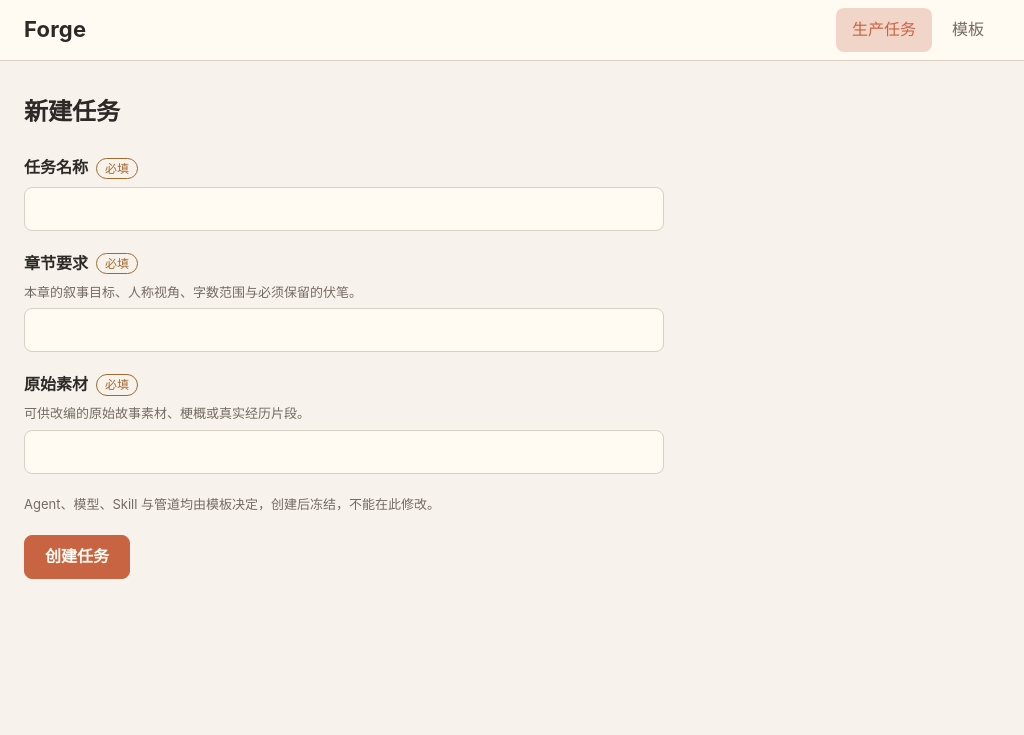
Test: NewTaskPage › keeps entered values and focuses the error summary when creation fails
This screenshot has width=1024, height=735.
In the field labelled "任务名称": [344, 209] box 24,187 -> 664,231, type "第一章产品形态验收"
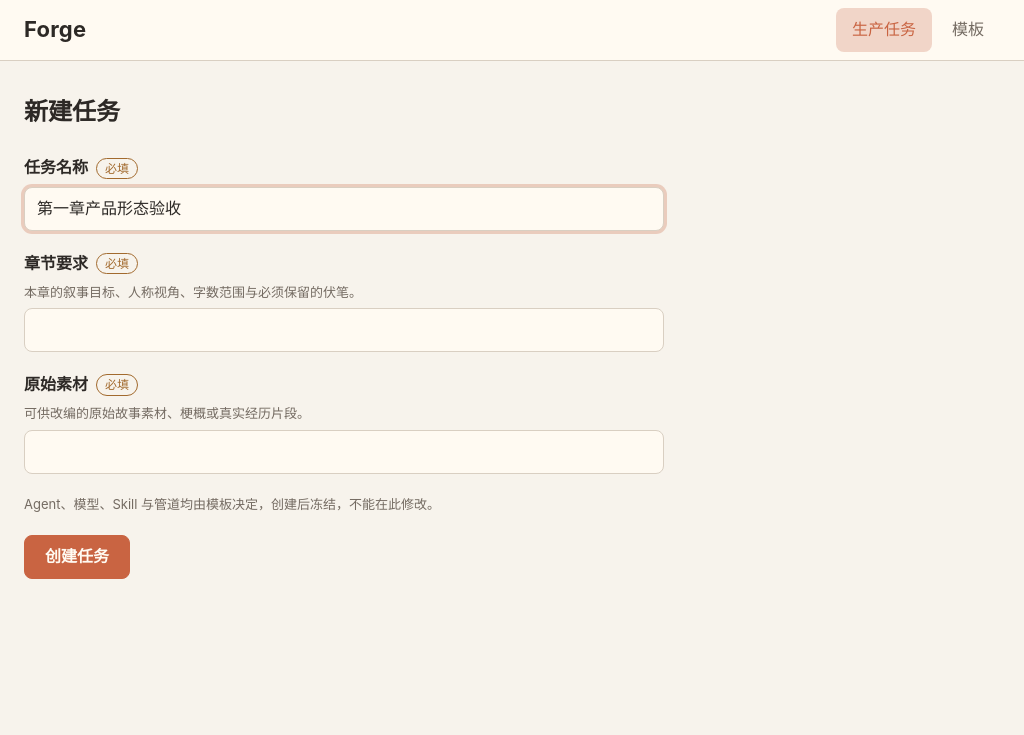
In the field labelled "章节要求": [344, 330] box 24,308 -> 664,352, type "以第一人称推进冲突"
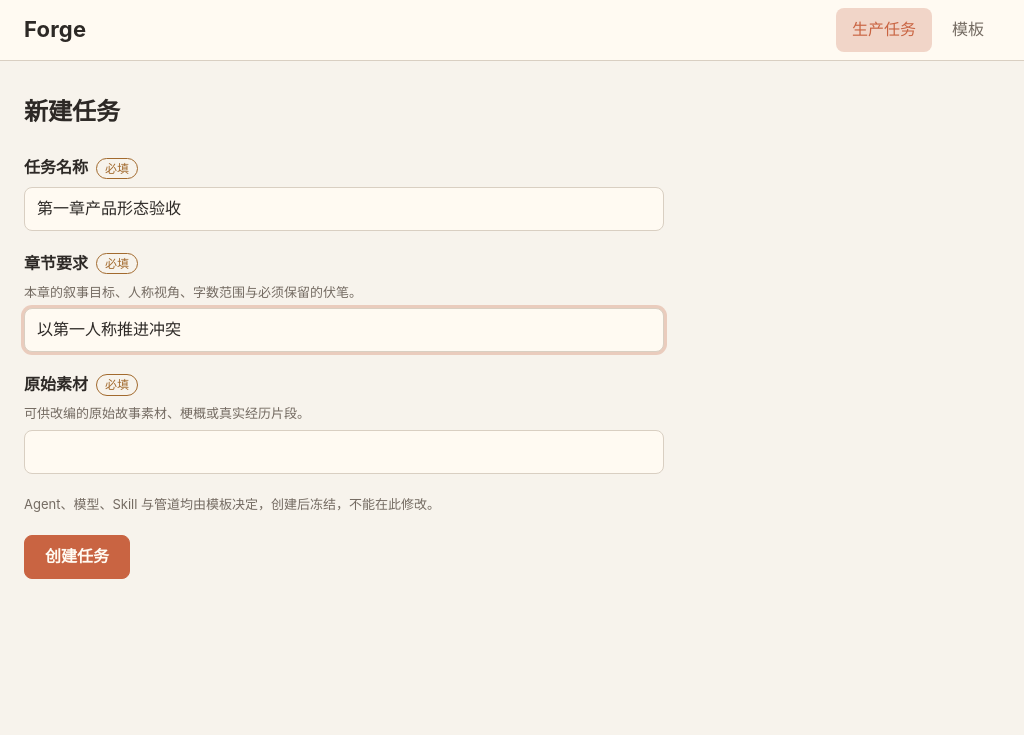
In the field labelled "原始素材": [344, 452] box 24,430 -> 664,474, type "家族聚会中出现一封旧信"
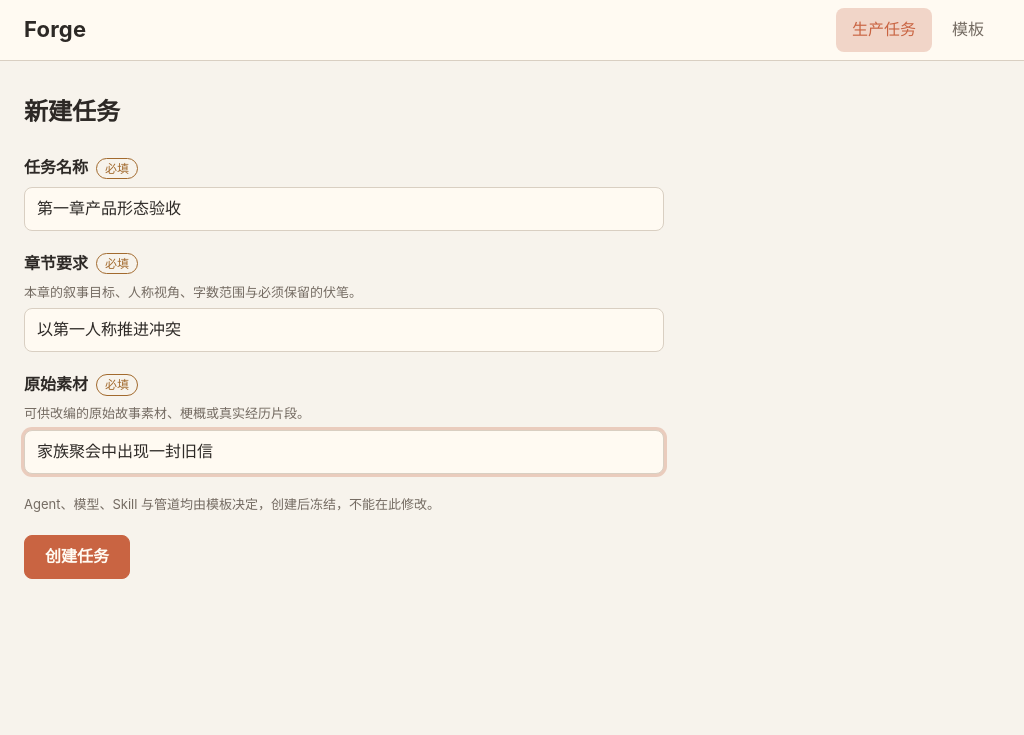
Click the button "创建任务": [77, 556] box 24,534 -> 130,578
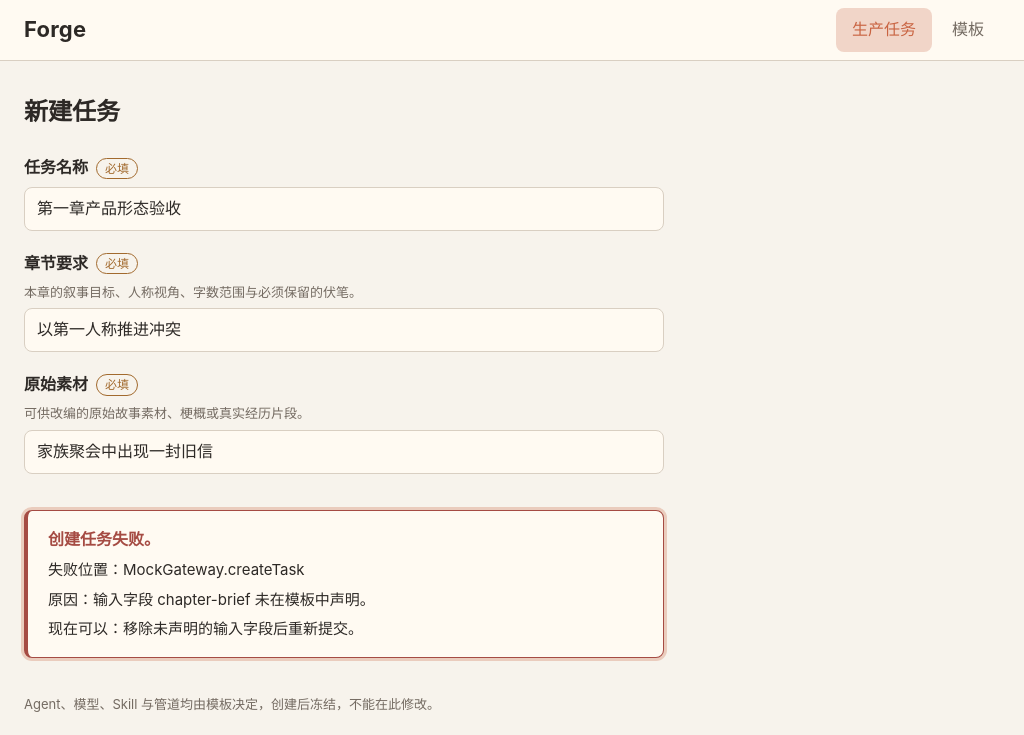
Expected: the text "输入字段 chapter-brief 未在模板中声明。" is shown, 93,590 -> 375,608
Expected: the text "MockGateway.createTask" is shown, 123,560 -> 304,579
Expected: the text "移除未声明的输入字段后重新提交。" is shown, 123,619 -> 363,638
